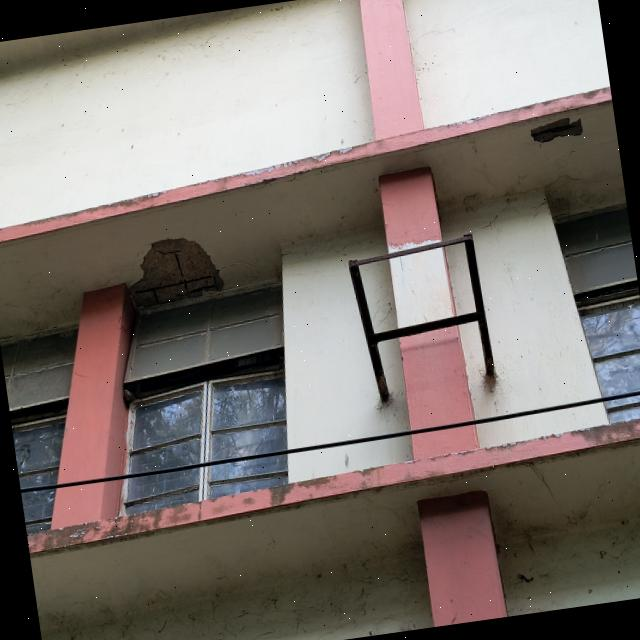Spalling: (133, 238, 222, 306), (531, 117, 582, 143)
